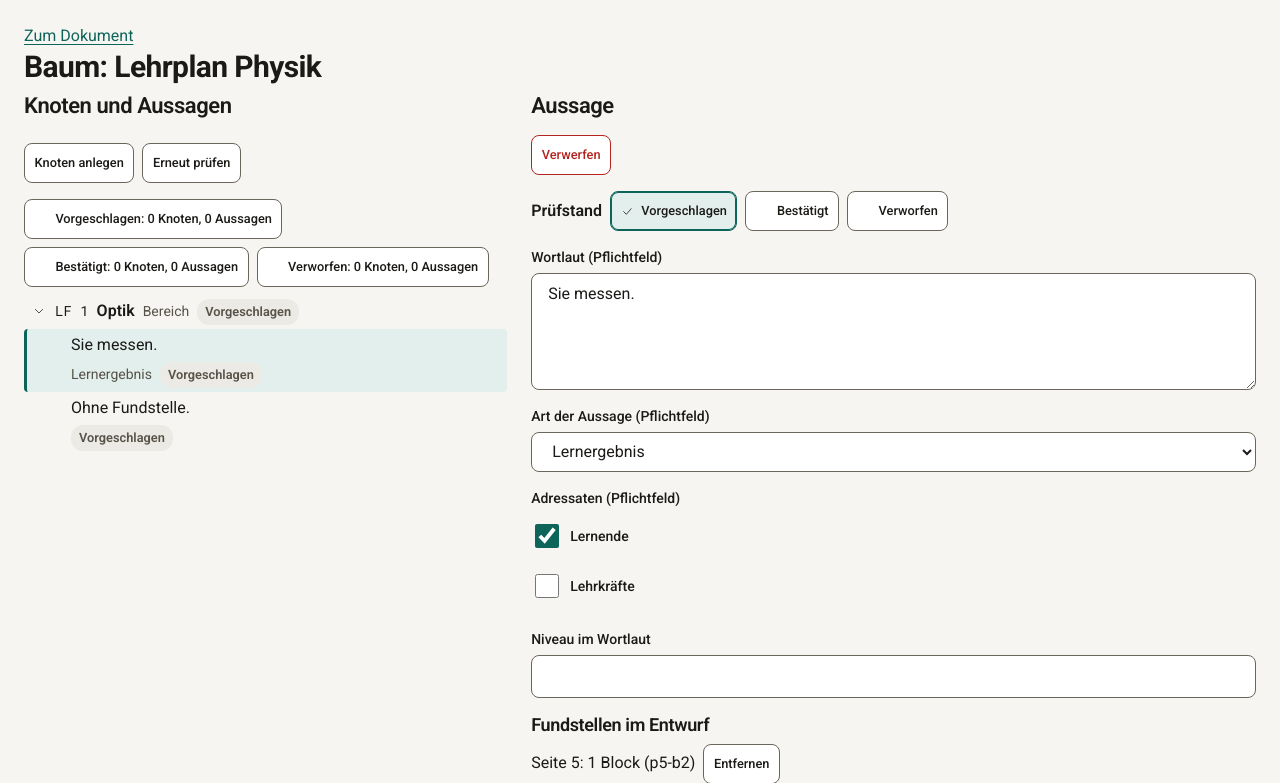
a document's tree page › reads the tree again once a change is saved, the row staying chosen
Replace the text in the text box labelled "Wortlaut (Pflichtfeld)" with "Sie messen genau." at (894, 332), box left=531, top=273, right=1256, bottom=390
(page scrolled)
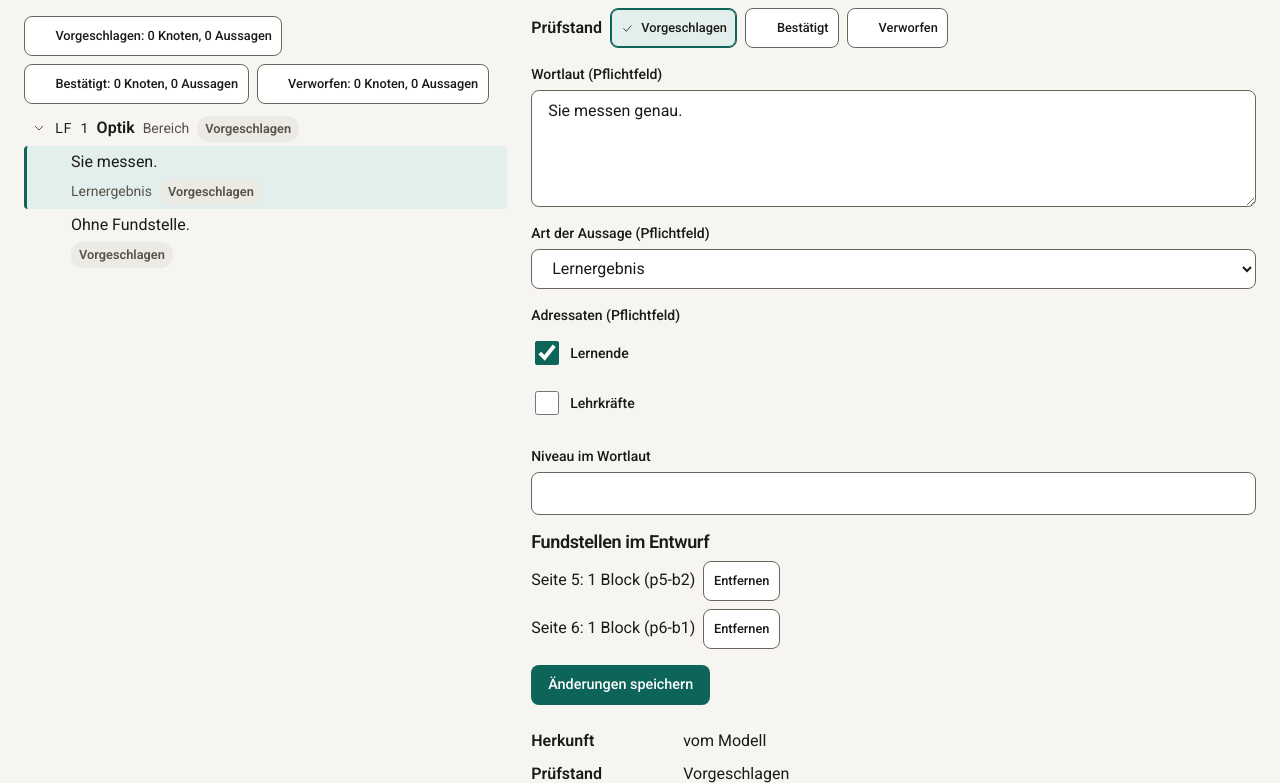
Submit the form with class "row-form", box left=531, top=64, right=1256, bottom=705
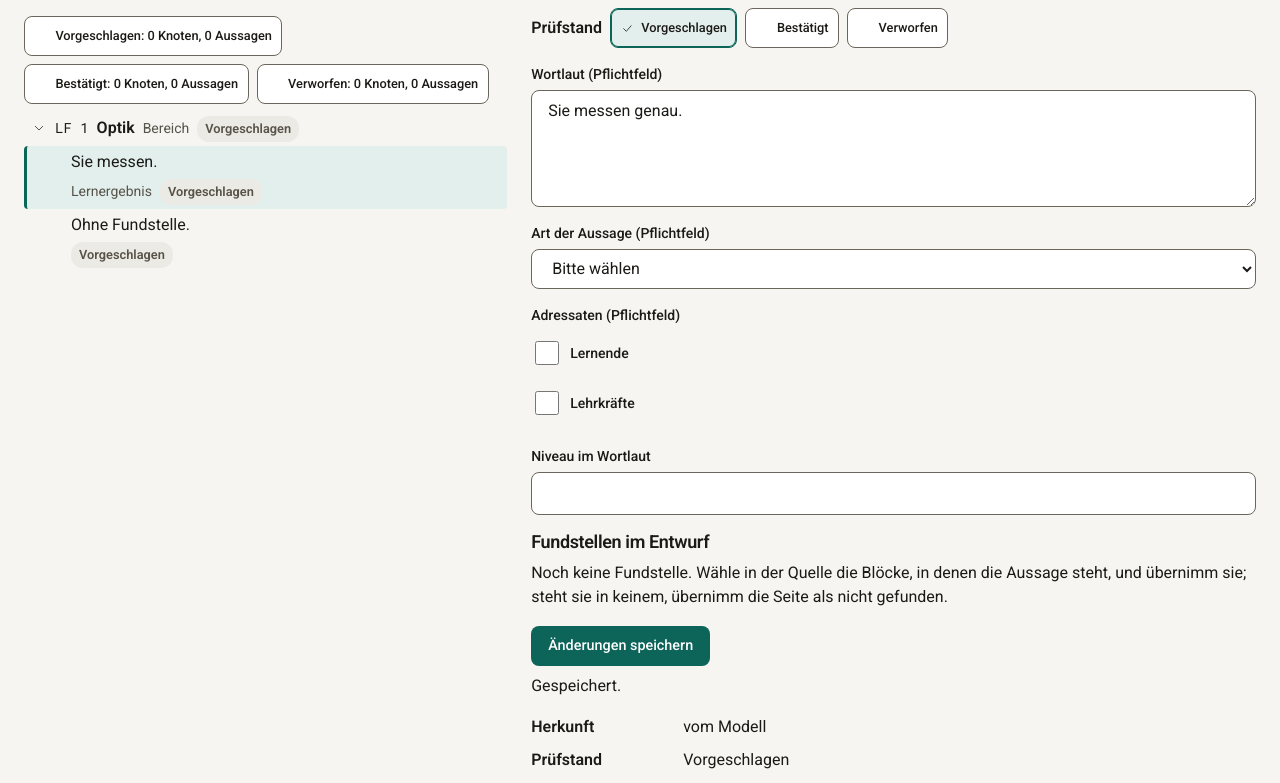
Now the message with class "row-editor__status" reads "Gespeichert.", box left=531, top=676, right=621, bottom=695
